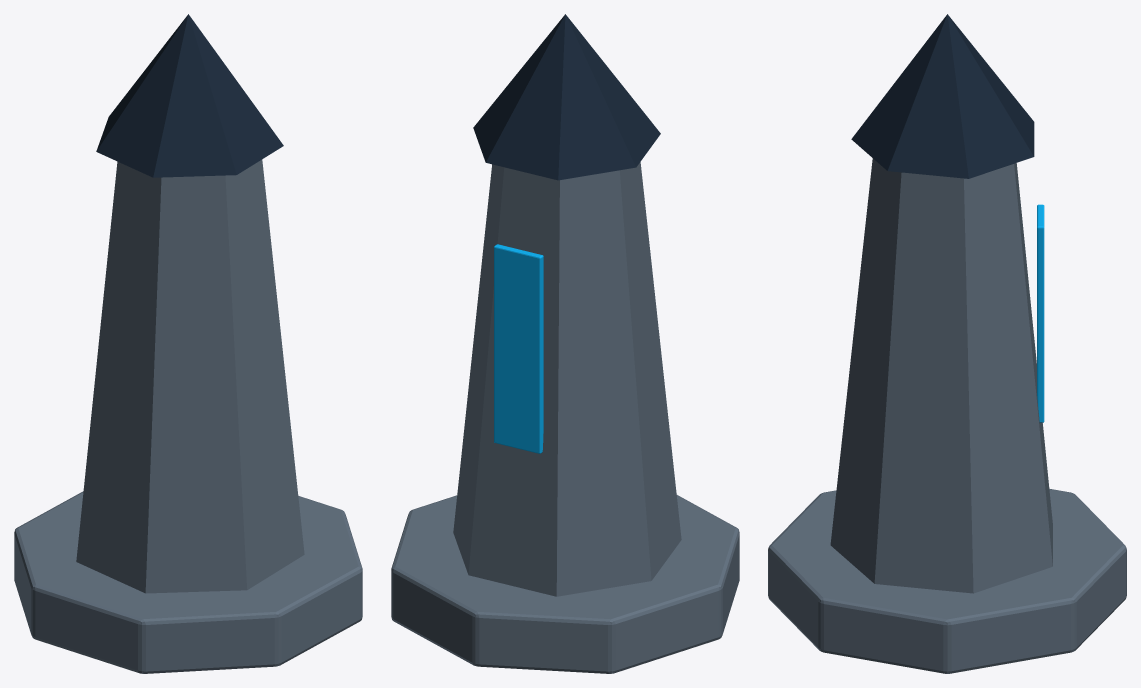
File: ancient_waystone_marker_lod1.obj
The picture shows the model from 3 angles, left to right: view 1: azimuth 30°, elevation 25°; view 2: azimuth 150°, elevation 25°; view 3: azimuth 270°, elevation 25°; orthographic projection.
Visible parts, largest first — view 1: ow_waystone_lod1_body_M_stone, ow_waystone_lod1_base_M_stone, ow_waystone_lod1_cap_M_gunmetal; view 2: ow_waystone_lod1_body_M_stone, ow_waystone_lod1_base_M_stone, ow_waystone_lod1_cap_M_gunmetal, ow_waystone_lod1_rune_M_cyan; view 3: ow_waystone_lod1_body_M_stone, ow_waystone_lod1_base_M_stone, ow_waystone_lod1_cap_M_gunmetal, ow_waystone_lod1_rune_M_cyan.
Boxes of the visible parts, x1,y1,x2,y2 form: ow_waystone_lod1_body_M_stone: (76,159,304,593); ow_waystone_lod1_base_M_stone: (14,491,362,673); ow_waystone_lod1_cap_M_gunmetal: (96,14,283,177); ow_waystone_lod1_body_M_stone: (453,162,681,596); ow_waystone_lod1_base_M_stone: (391,495,739,673); ow_waystone_lod1_cap_M_gunmetal: (473,14,660,180); ow_waystone_lod1_rune_M_cyan: (494,244,543,453); ow_waystone_lod1_body_M_stone: (830,158,1052,593); ow_waystone_lod1_base_M_stone: (768,488,1126,673); ow_waystone_lod1_cap_M_gunmetal: (851,14,1034,178); ow_waystone_lod1_rune_M_cyan: (1037,204,1044,422).
Bounding box in the file's own units: 1.19 × 2.15 × 1.19.
